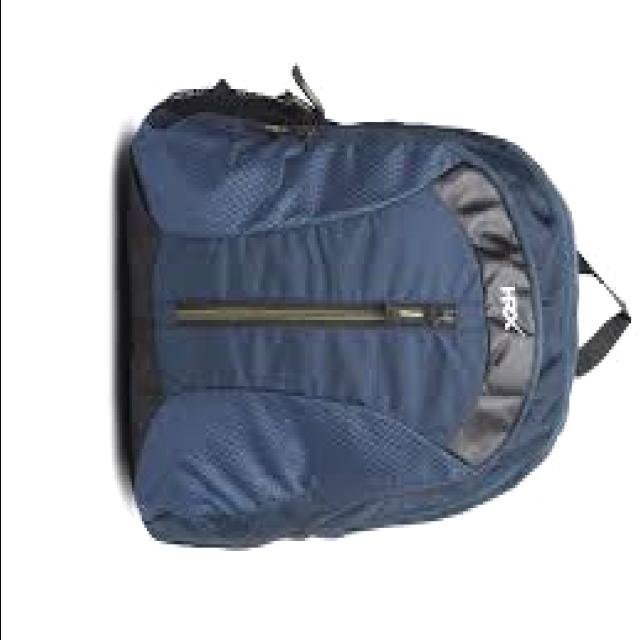backpack: (125, 64, 634, 552)
